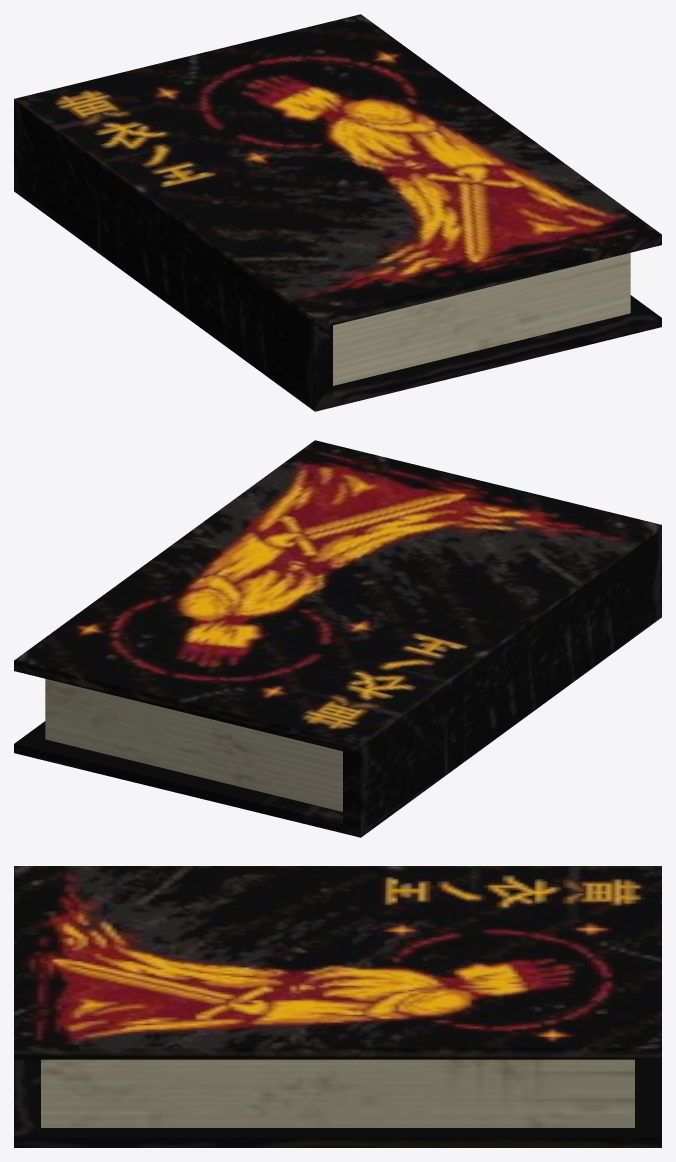
File: book.glb
3 renders of one model, top to bottom at view 1: azimuth 30°, elevation 25°; view 2: azimuth 150°, elevation 25°; view 3: azimuth 270°, elevation 25°, orthographic. The views are drawn at different scales.
Parts seen in each view (by area): view 1: pCube1; view 2: pCube1; view 3: pCube1.
Boxes of the visible parts, x1,y1,x2,y2 form: pCube1: [14, 14, 661, 411]; pCube1: [14, 440, 661, 837]; pCube1: [14, 866, 661, 1147].
Bounding box in the file's own units: 0.0339 × 0.00864 × 0.0509.
1 material, 1 textured.
